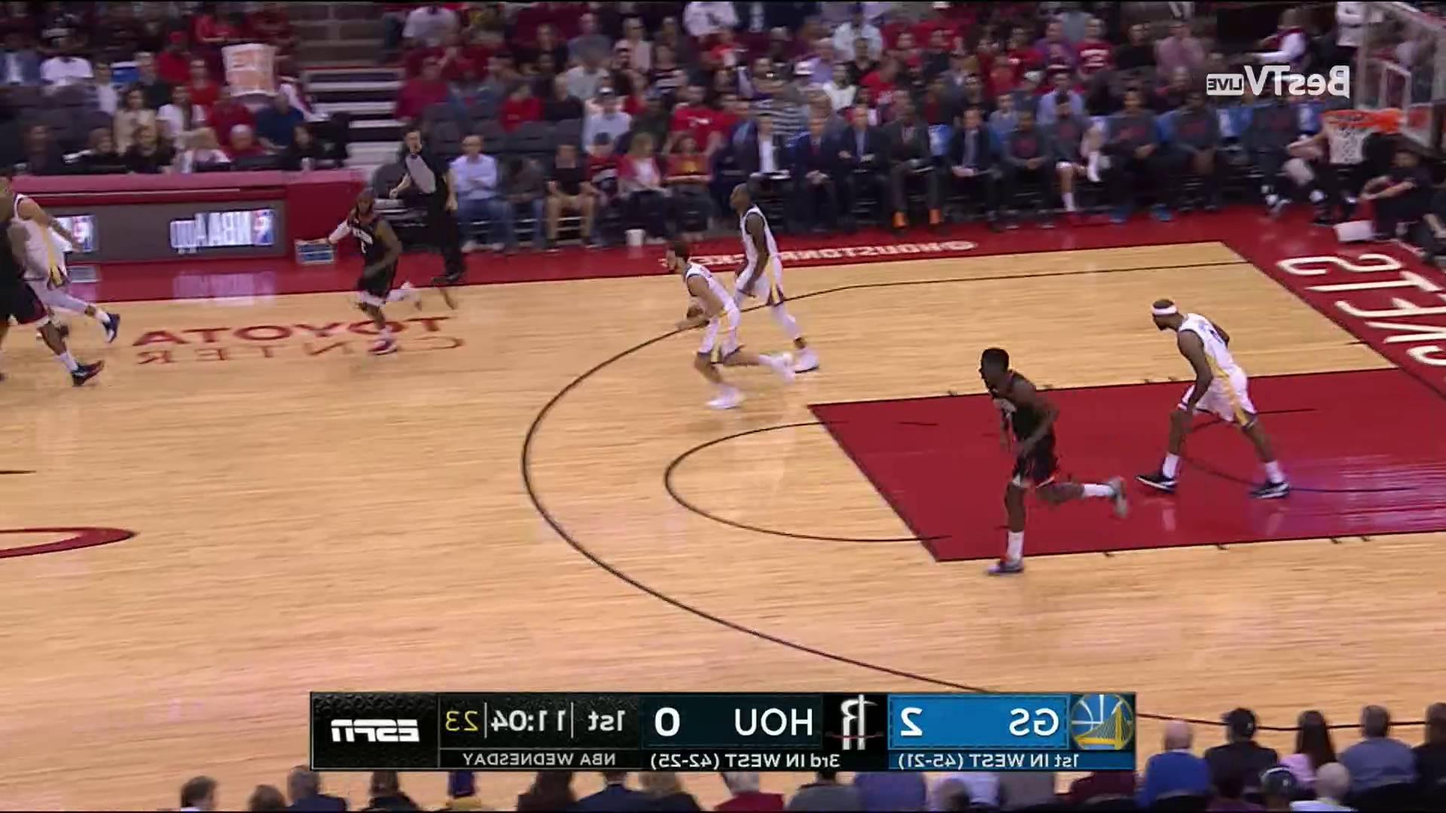basketball: (684, 304, 709, 326)
